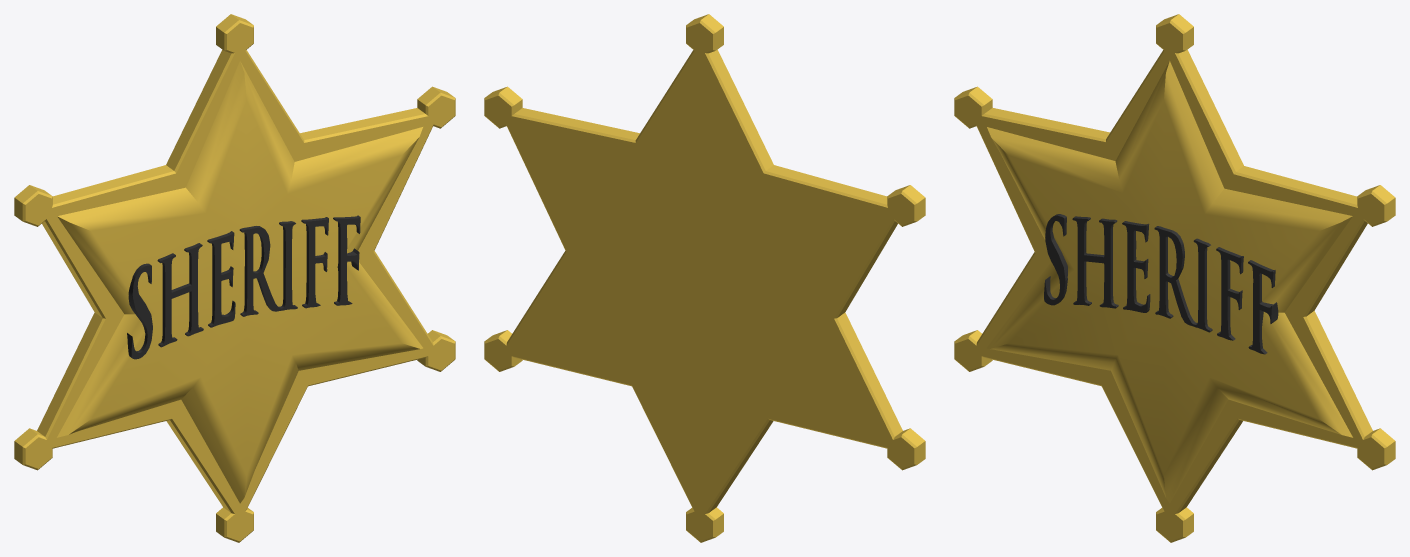
File: SheriffBadge_01.fbx
3 views of the same model, side by side, from view 1: azimuth 30°, elevation 25°; view 2: azimuth 150°, elevation 25°; view 3: azimuth 330°, elevation 25° (orthographic).
Visible parts, largest first — view 1: polySurface56; view 2: polySurface56; view 3: polySurface56.
Boxes of the visible parts, x1,y1,x2,y2 form: polySurface56: [14, 14, 455, 542]; polySurface56: [484, 14, 925, 542]; polySurface56: [954, 14, 1395, 542].
Bounding box in the file's own units: 34.68 × 40.04 × 2.63.
